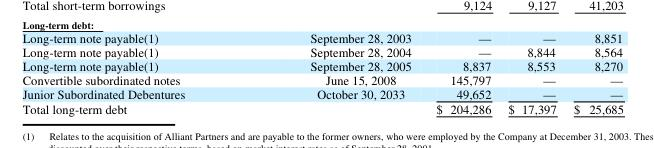table: (21, 28, 623, 116)
table column: (21, 28, 246, 116), (246, 28, 423, 116), (423, 28, 498, 116), (498, 28, 564, 116), (564, 28, 623, 116)
table column header: (21, 28, 623, 43)
table row: (21, 100, 623, 116), (21, 28, 623, 43), (21, 85, 623, 100), (21, 43, 623, 57), (21, 57, 623, 71), (21, 71, 623, 85)
